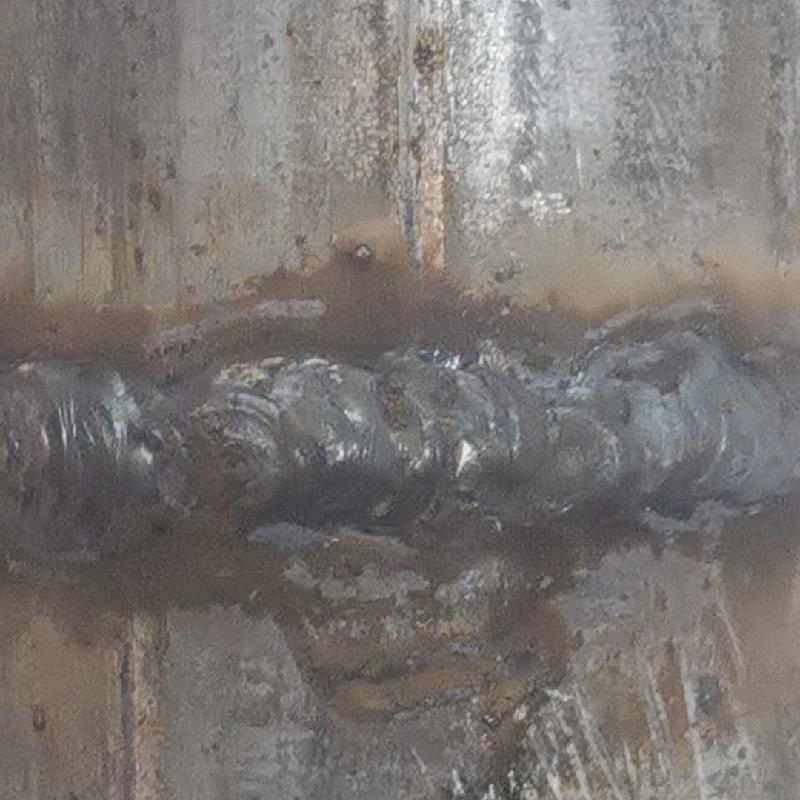good: (0, 342, 799, 534)
